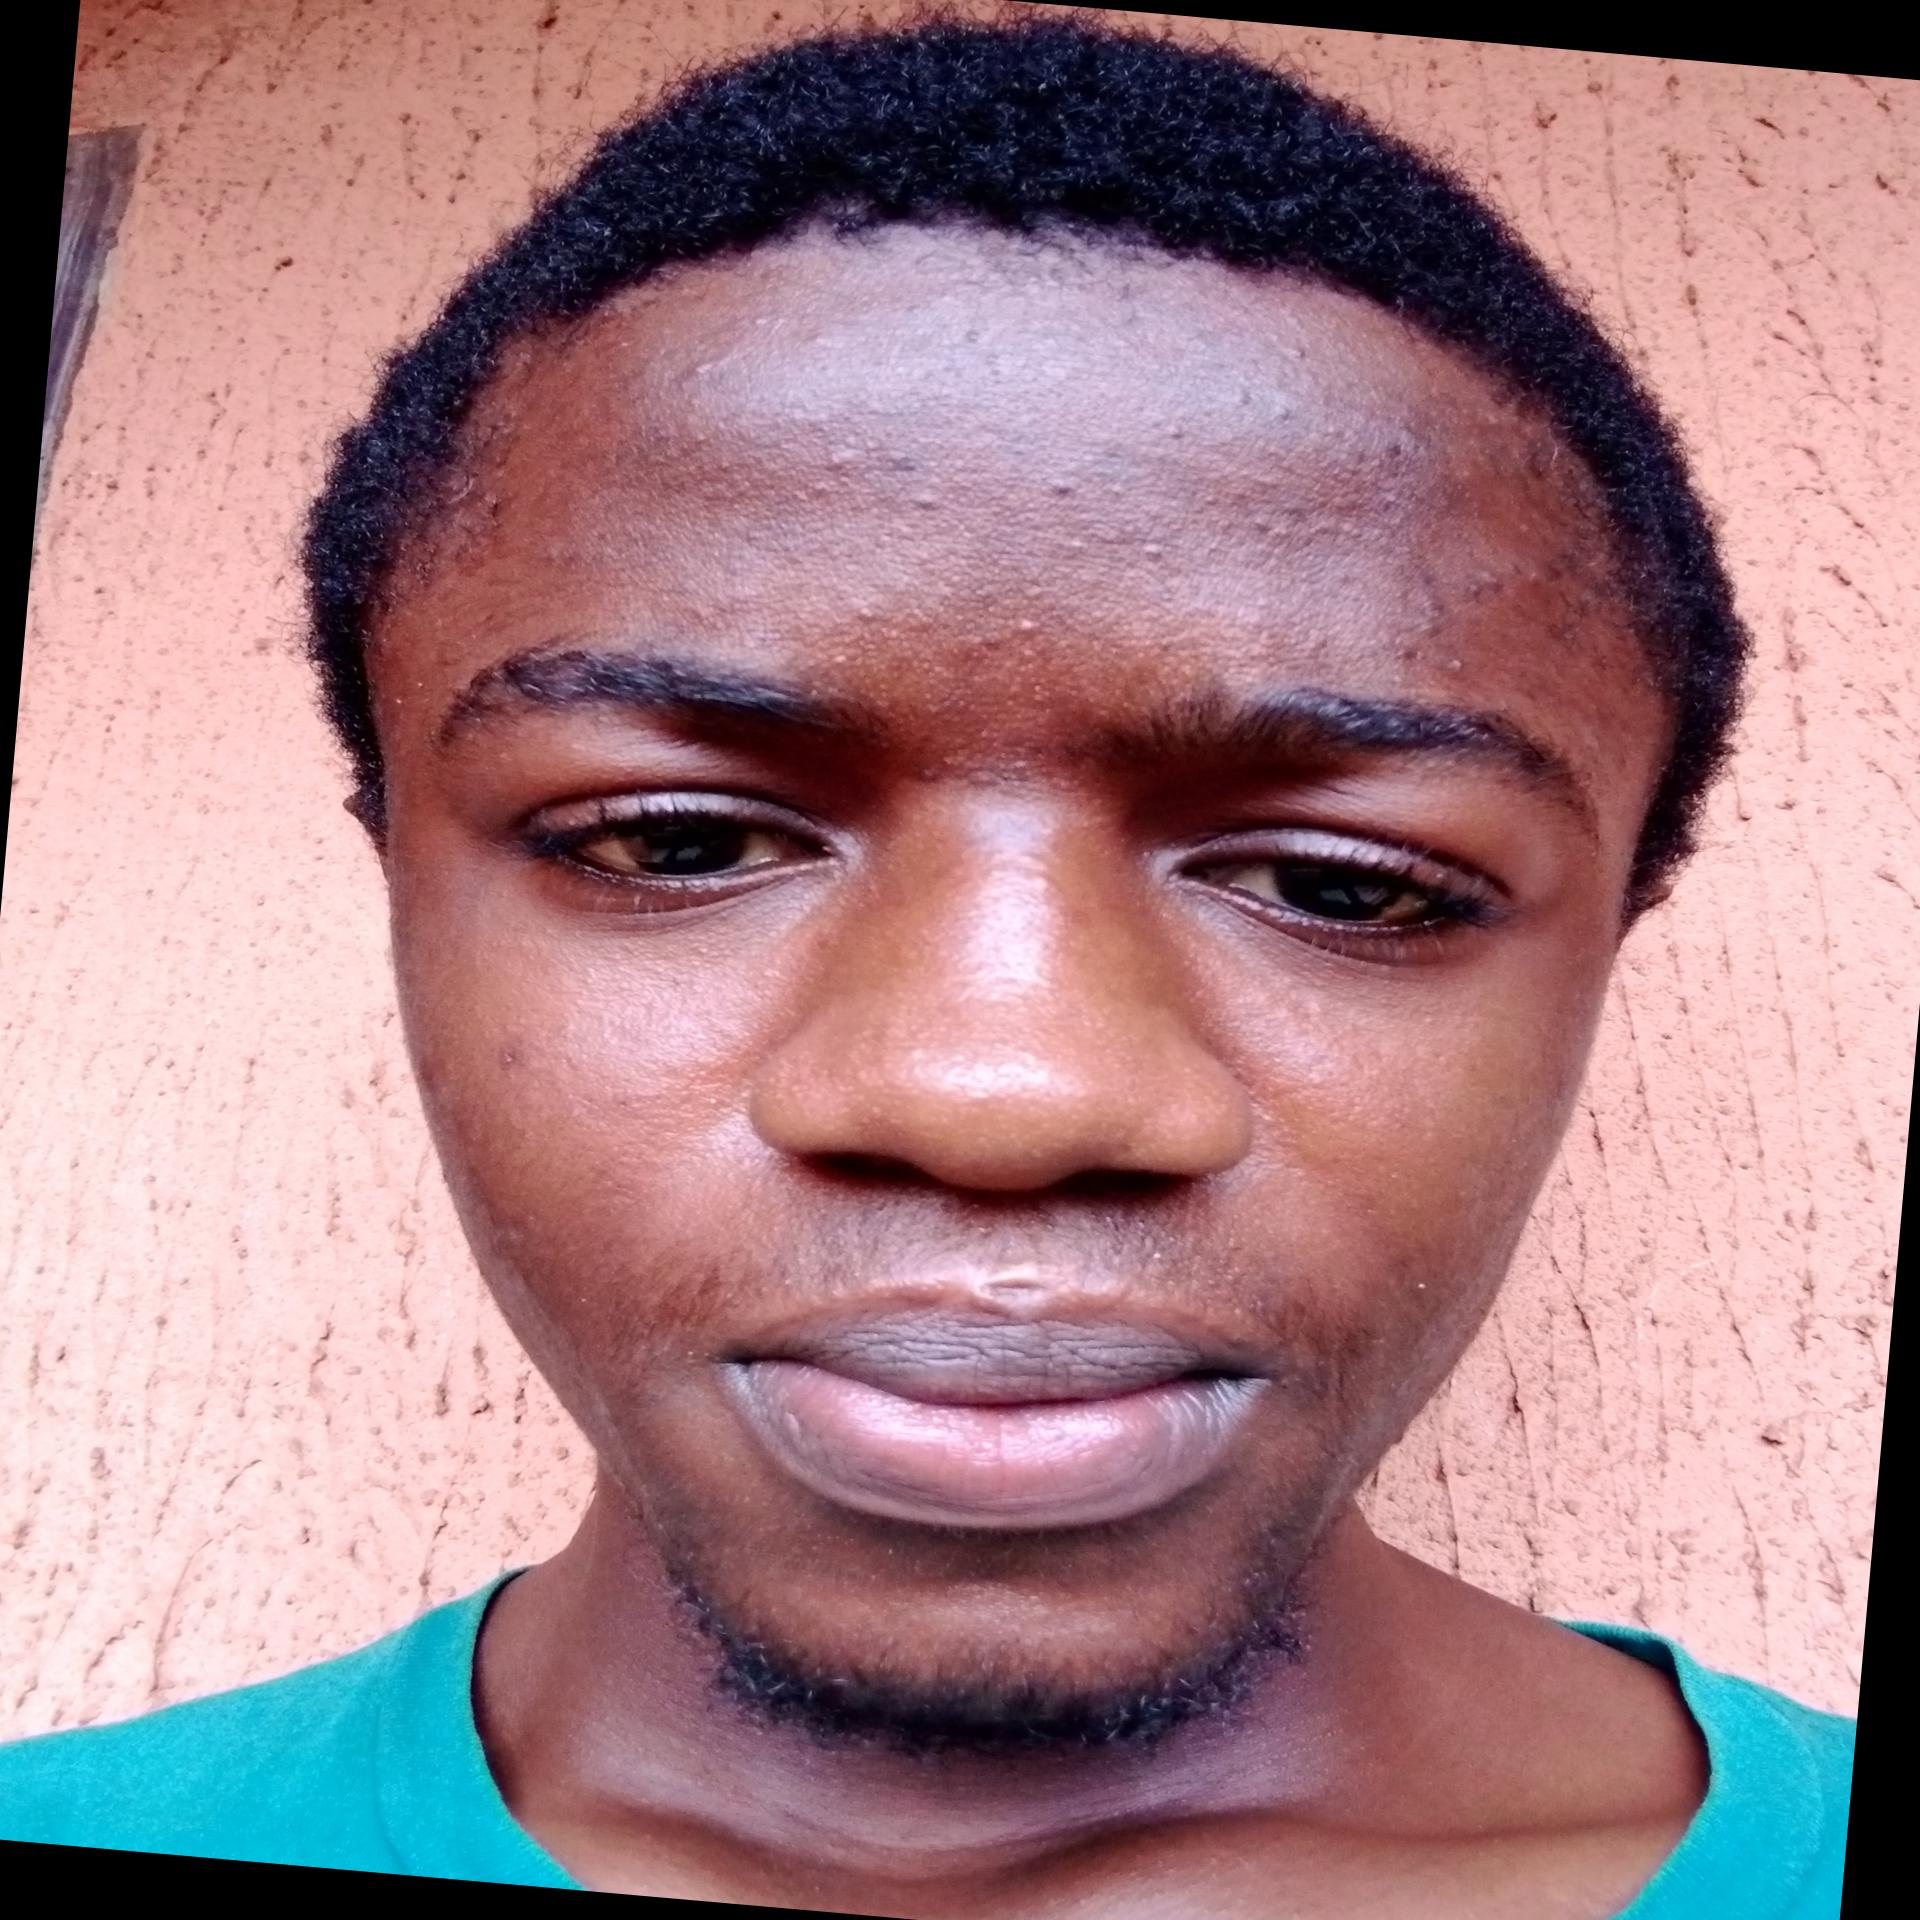Acne: (1378, 587, 1456, 672), (956, 603, 1053, 670), (1197, 492, 1303, 550), (1252, 302, 1320, 375), (687, 425, 753, 482), (1305, 482, 1357, 549), (1458, 557, 1547, 594), (1322, 415, 1380, 468), (1224, 383, 1299, 424), (907, 754, 976, 798), (956, 324, 1013, 373), (487, 1034, 535, 1074), (1364, 489, 1424, 520), (675, 352, 728, 385), (812, 441, 870, 471), (870, 441, 930, 469), (900, 487, 953, 519), (1377, 433, 1412, 476), (855, 601, 900, 635), (1041, 469, 1087, 501), (1141, 406, 1187, 438), (798, 324, 842, 355), (1436, 644, 1472, 680), (1136, 535, 1176, 564), (1058, 533, 1094, 559), (1452, 457, 1480, 489), (1250, 469, 1285, 492), (747, 309, 777, 336), (898, 294, 928, 320), (1016, 580, 1050, 603), (1101, 475, 1127, 503), (812, 478, 839, 499)
